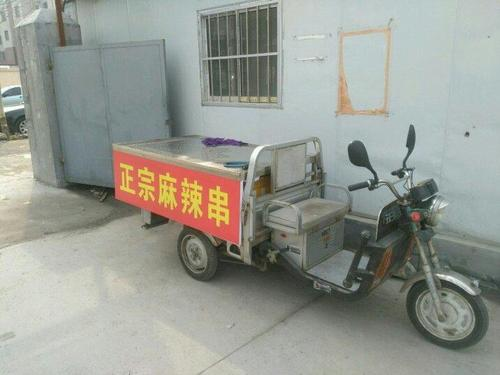tricycle: (107, 105, 491, 349)
